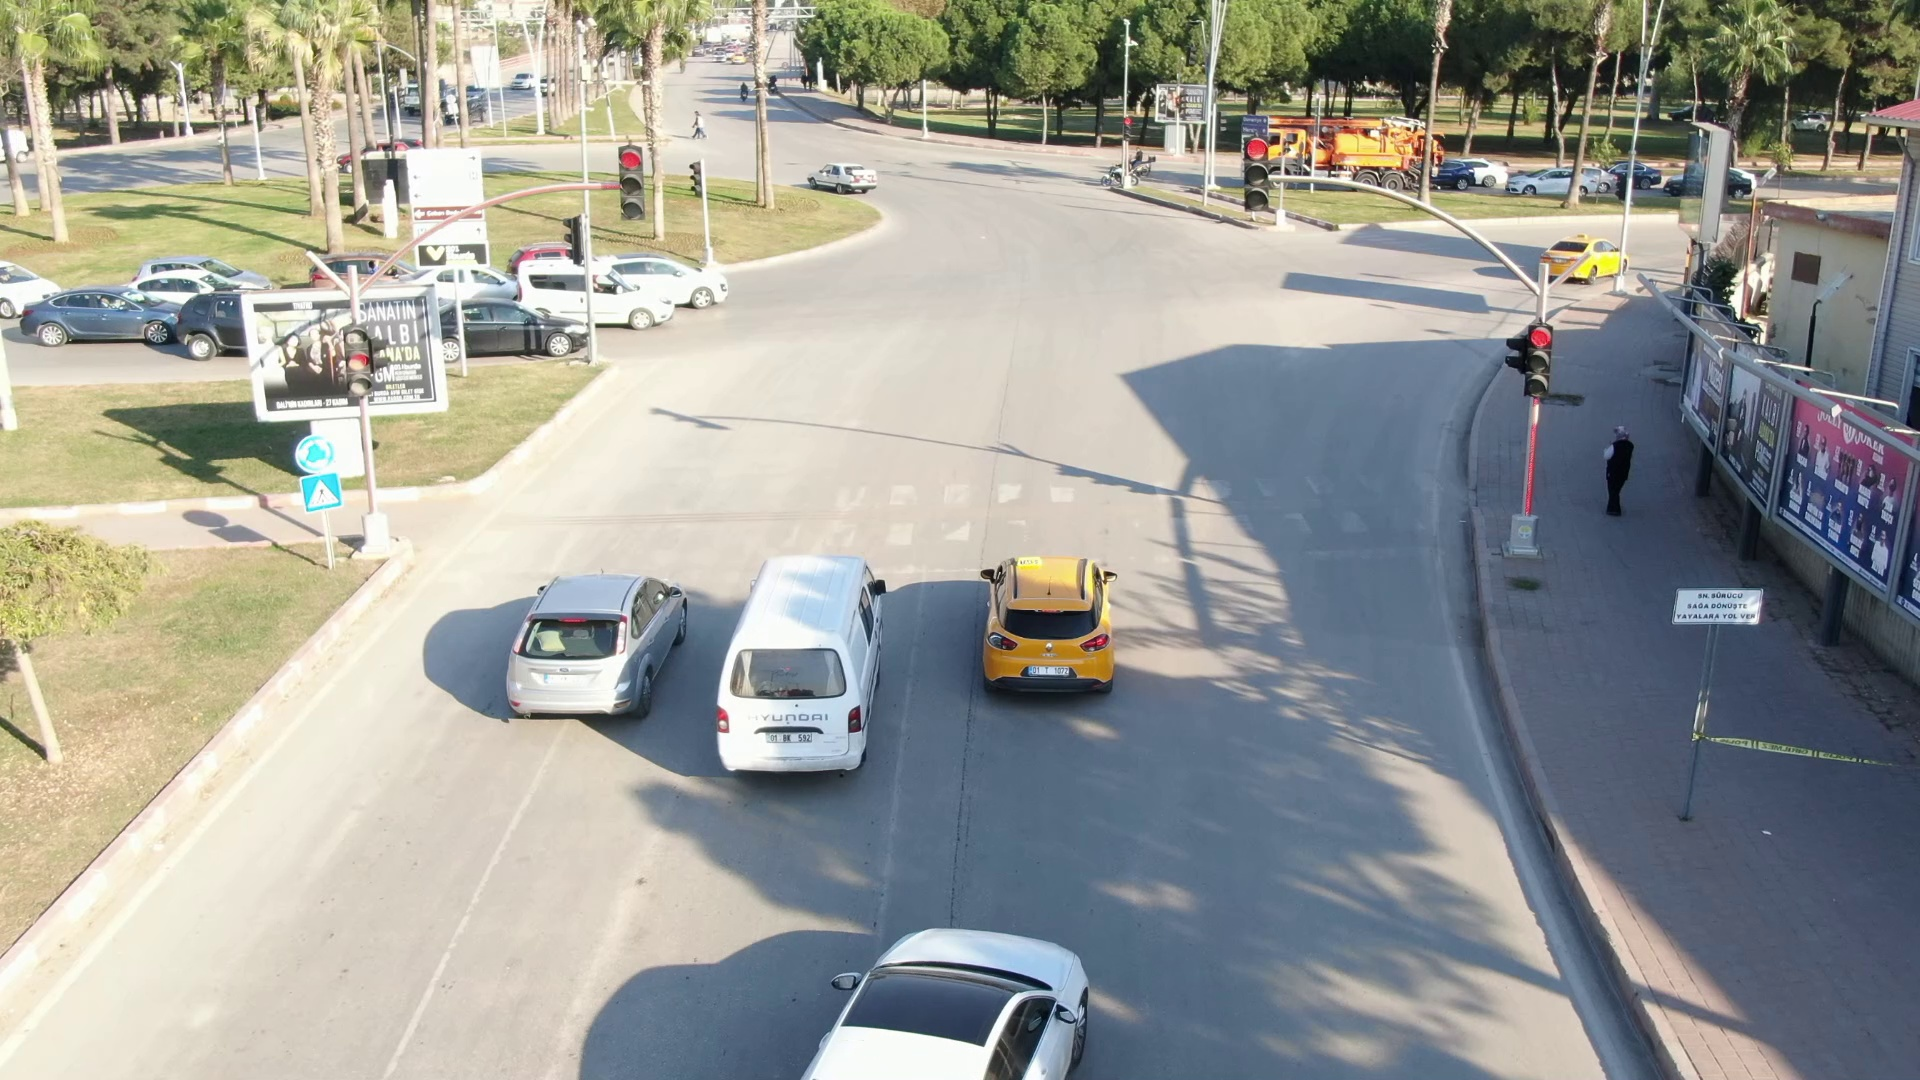car: (800, 912, 1110, 1080), (702, 541, 896, 796), (498, 563, 690, 745), (978, 551, 1121, 714), (510, 257, 682, 323), (443, 288, 592, 357), (602, 249, 739, 306), (1541, 231, 1629, 284), (808, 157, 878, 196)
person: (1592, 421, 1641, 525)
